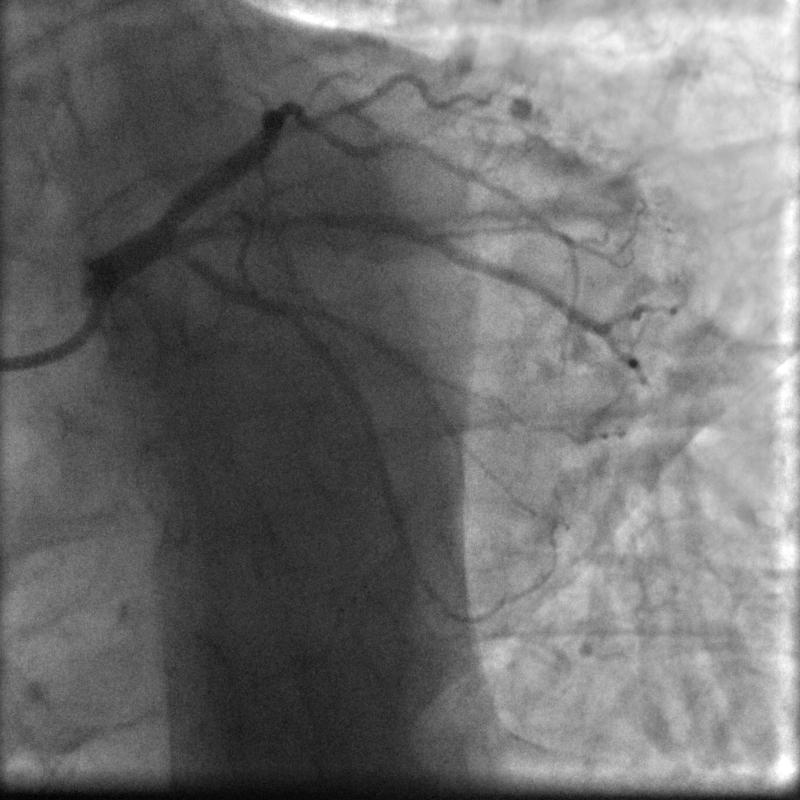Stenosis: (264, 90, 319, 120)
